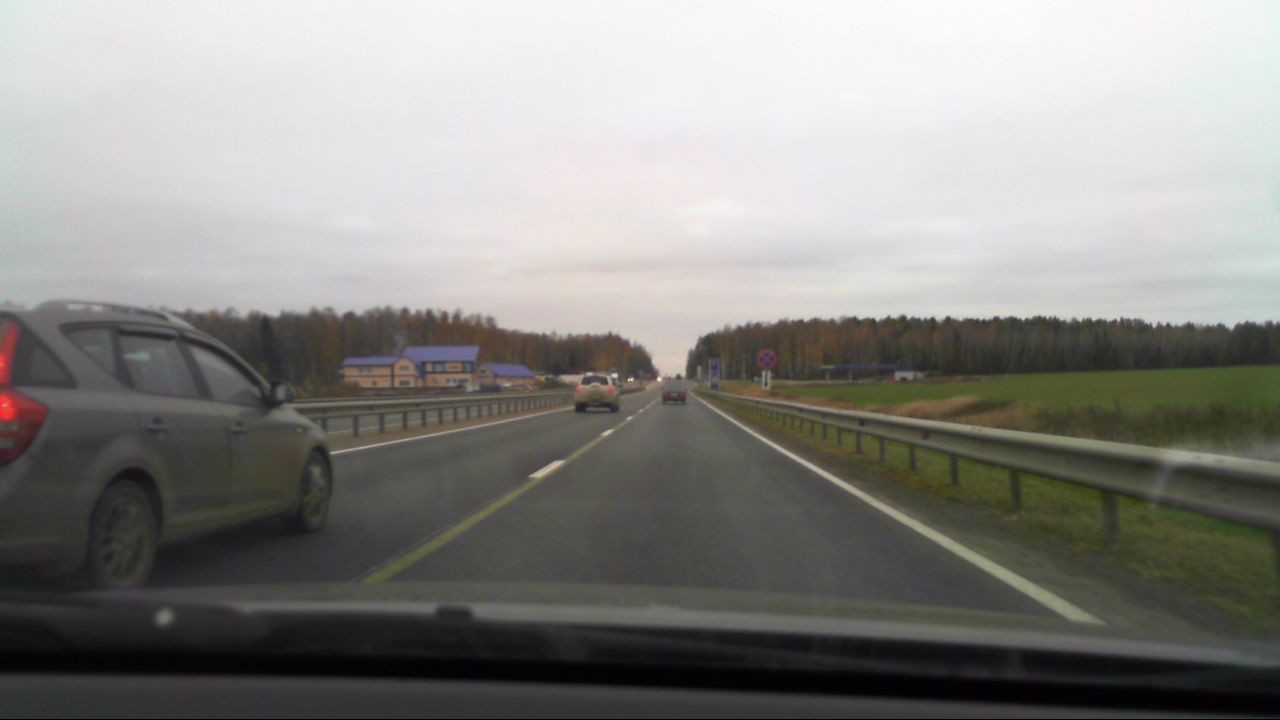No Parking: (757, 349, 775, 369)
